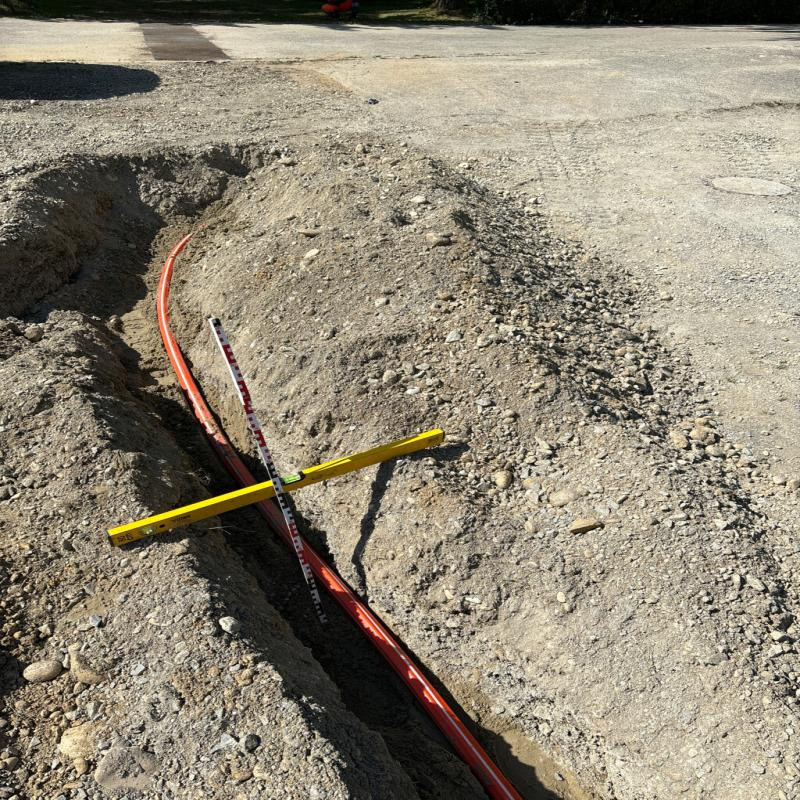Orang-Speednetrohrchen: (301, 540, 521, 800), (156, 275, 272, 497)
